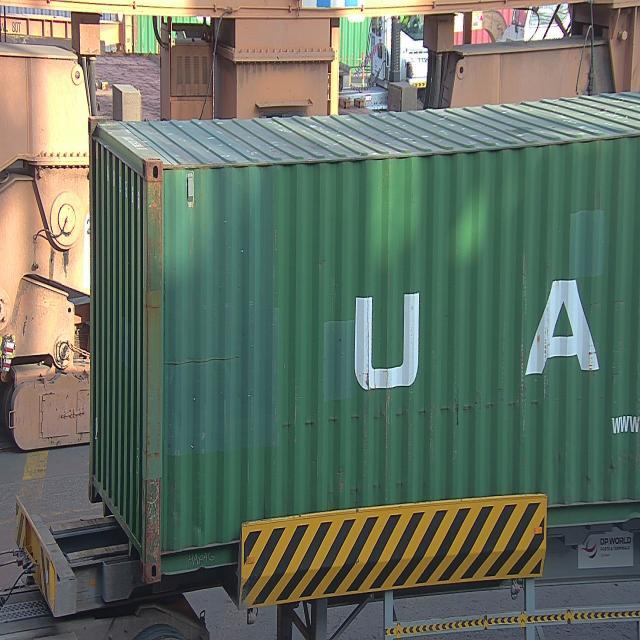rust: (144, 459, 170, 589), (138, 139, 168, 241)
